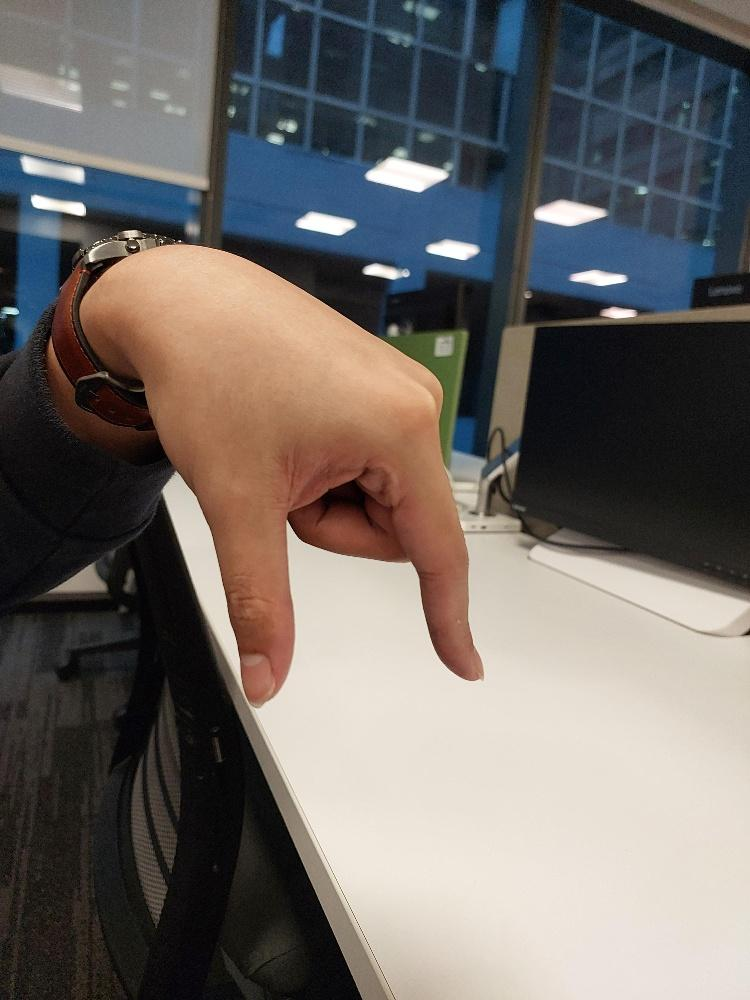q: (154, 267, 487, 708)
